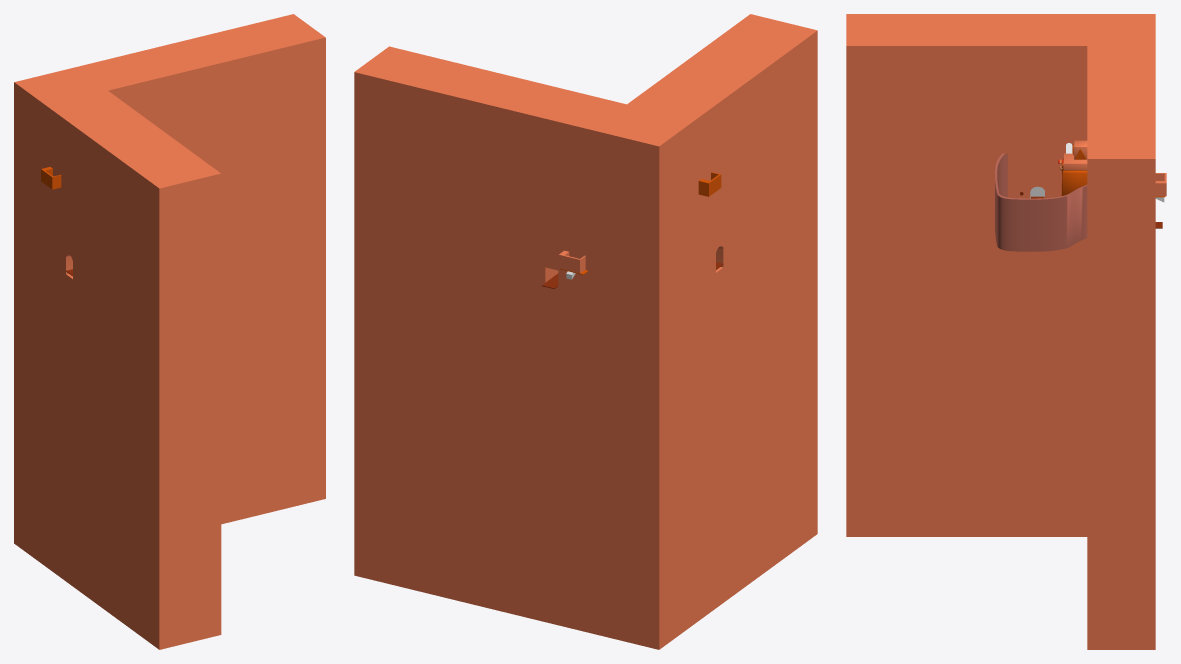
The model's file is redroom.fbx.
The picture shows the model from 3 angles, left to right: view 1: azimuth 30°, elevation 25°; view 2: azimuth 150°, elevation 25°; view 3: azimuth 270°, elevation 25°; orthographic projection. The views are drawn at different scales.
Visible parts, largest first — view 1: wall_2, wall_1; view 2: wall_1, wall_2; view 3: wall_2, wall_1, bounds, tower.
Part boxes in pixels (x1,y1,x2,y2): wall_2: (46,90,221,649); wall_1: (14,14,325,566); wall_1: (354,46,694,649); wall_2: (627,14,817,623); wall_2: (846,14,1087,536); wall_1: (1087,14,1155,649); bounds: (995,153,1087,251); tower: (1061,140,1087,196).
Bounding box in the file's own units: 2308 × 3522 × 2082.
